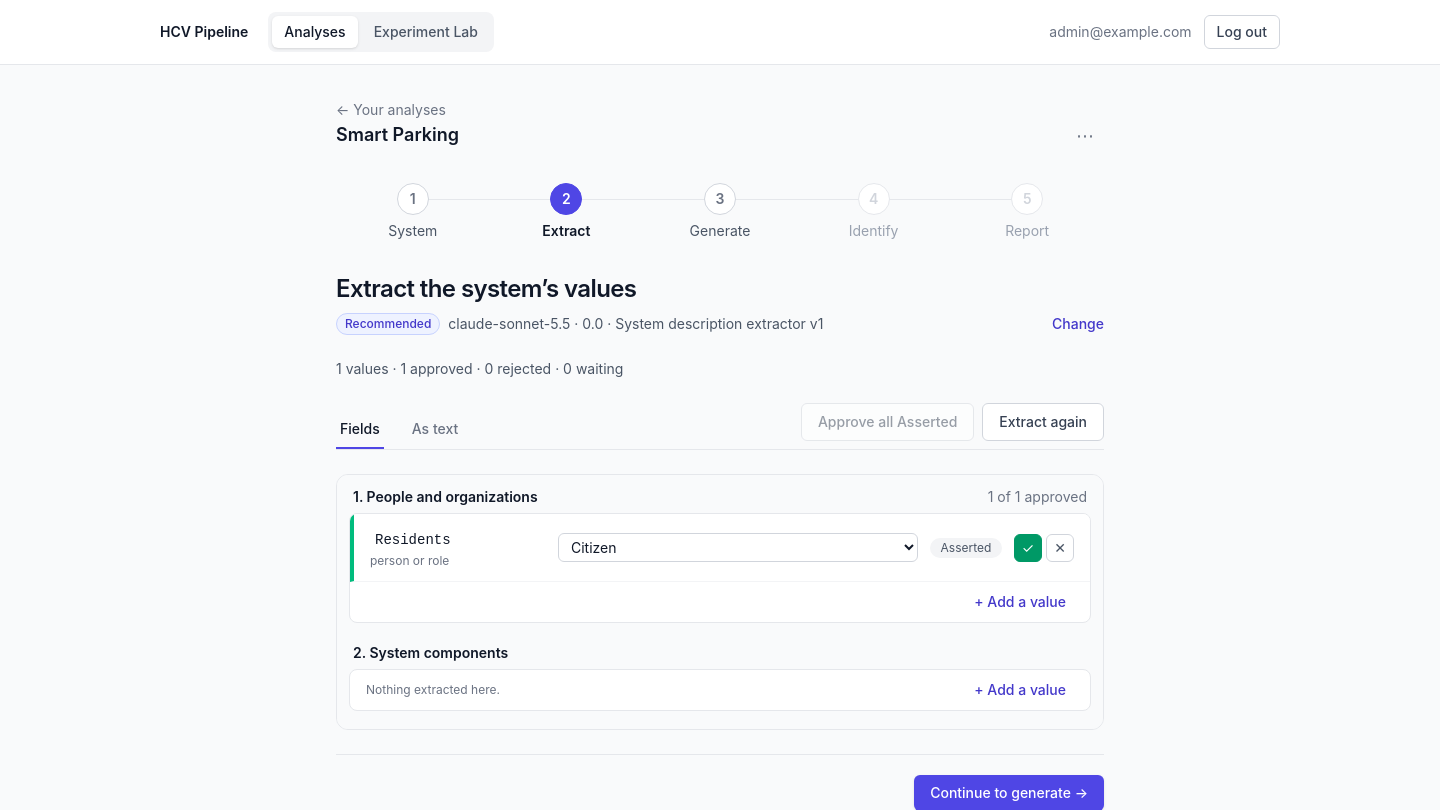
it: Extract step › continues to Generate when all are decided
The image size is (1440, 810).
Click the button "Continue to generate →".
click(1009, 793)  # box left=914, top=775, right=1104, bottom=809
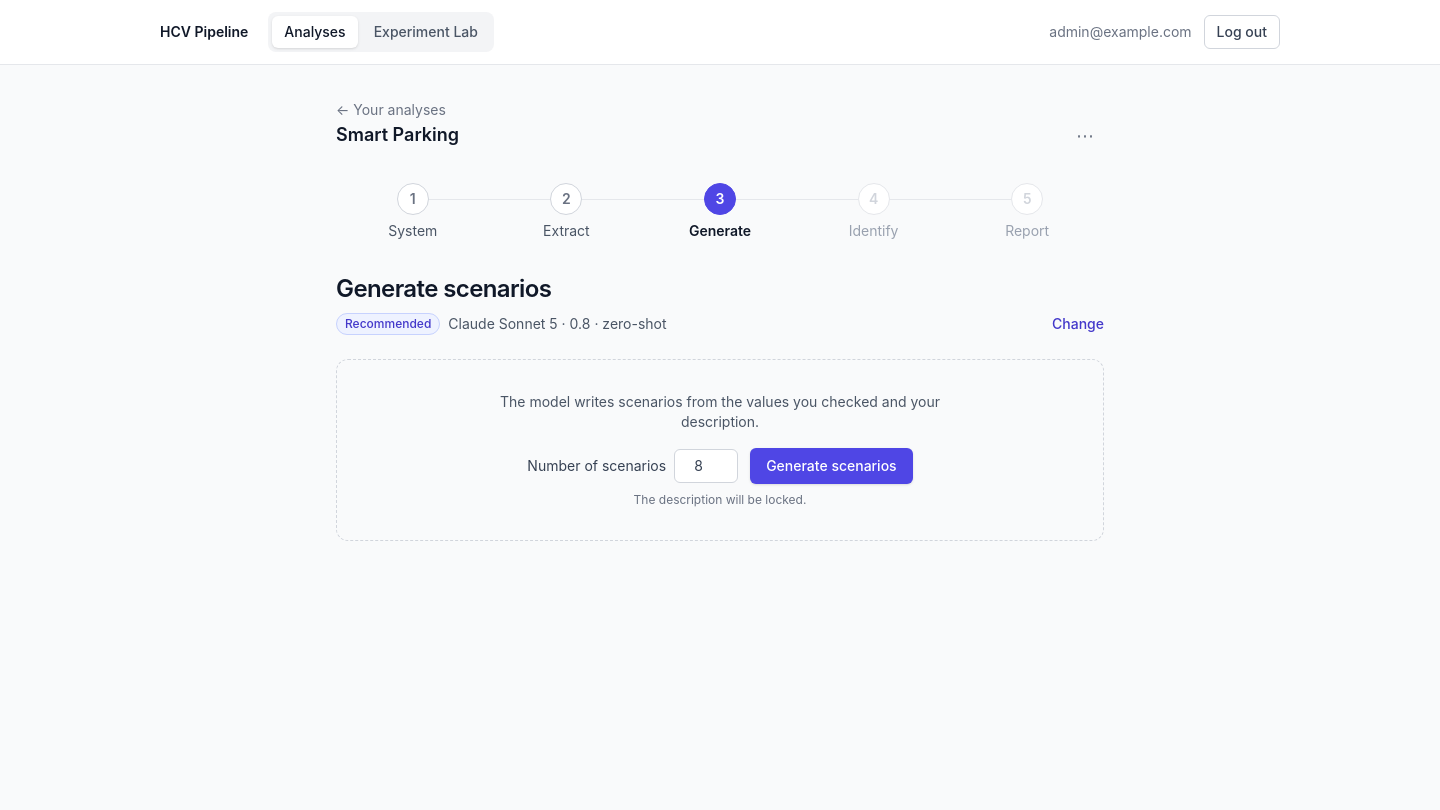
Now the heading "Generate scenarios" is shown, box left=336, top=274, right=551, bottom=303
